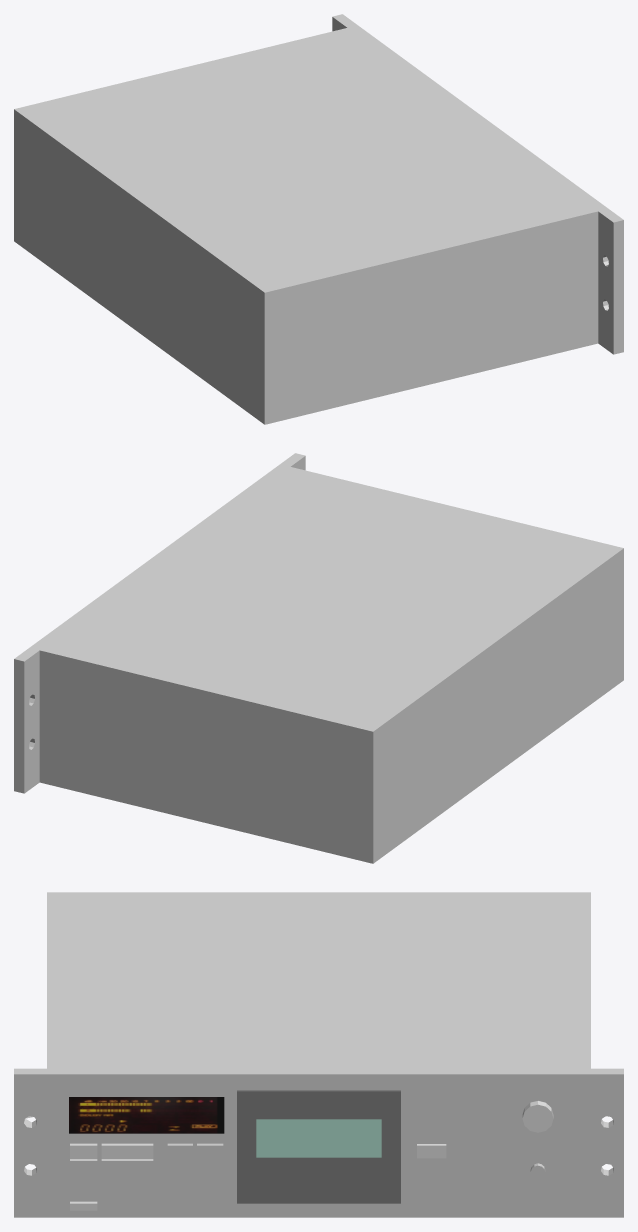
The model's file is gramofon.fbx.
The picture shows the model from 3 angles, top to bottom: view 1: azimuth 30°, elevation 25°; view 2: azimuth 150°, elevation 25°; view 3: azimuth 270°, elevation 25°; orthographic projection. The views are drawn at different scales.
Visible parts, largest first — view 1: magnetofon; view 2: magnetofon; view 3: magnetofon, pokrywka-magnetofon, magnetofon-play, magnetofon-volume.
Part boxes in pixels (<box>): magnetofon: <box>14,14,623,424</box>; magnetofon: <box>14,453,623,863</box>; magnetofon: <box>14,892,623,1217</box>; pokrywka-magnetofon: <box>237,1090,400,1203</box>; magnetofon-play: <box>101,1143,153,1158</box>; magnetofon-volume: <box>522,1101,553,1132</box>.
Size of the model in its own units: 11.09 by 3.99 by 15.39.
9 materials, 1 textured.
